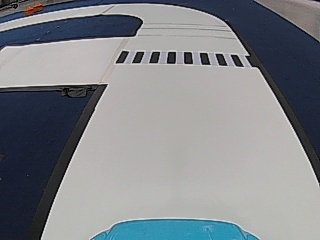CrossWalk: (114, 49, 254, 69)
